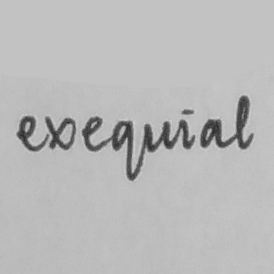a: (199, 115, 225, 151)
e: (15, 113, 40, 154), (80, 114, 106, 153)
i: (175, 106, 198, 151)
l: (232, 92, 255, 150)
q: (109, 117, 137, 182)
u: (142, 118, 173, 153)
x: (42, 113, 77, 153)
